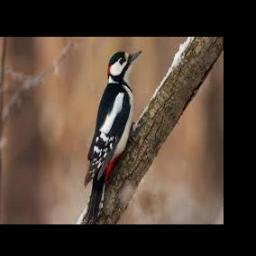Woodpecker: (85, 49, 142, 224)
